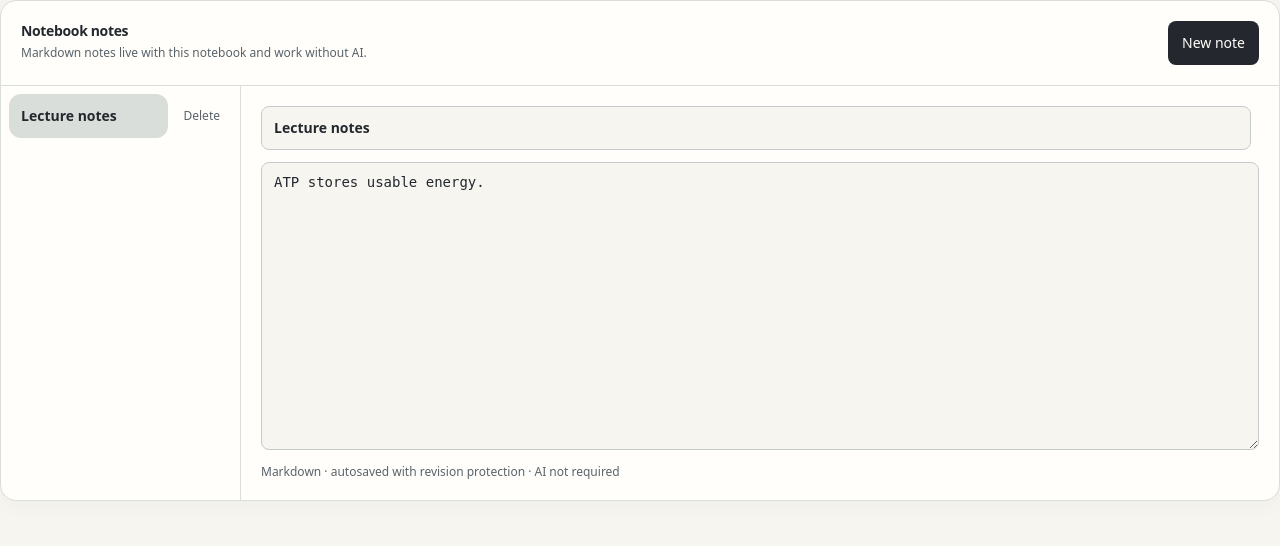
Test case: NotesPanel › keeps local edits when the server reports a newer revision
Replace the text in the text box named "Note body" with "My unsaved local edit.": (760, 306) left=261, top=162, right=1259, bottom=450
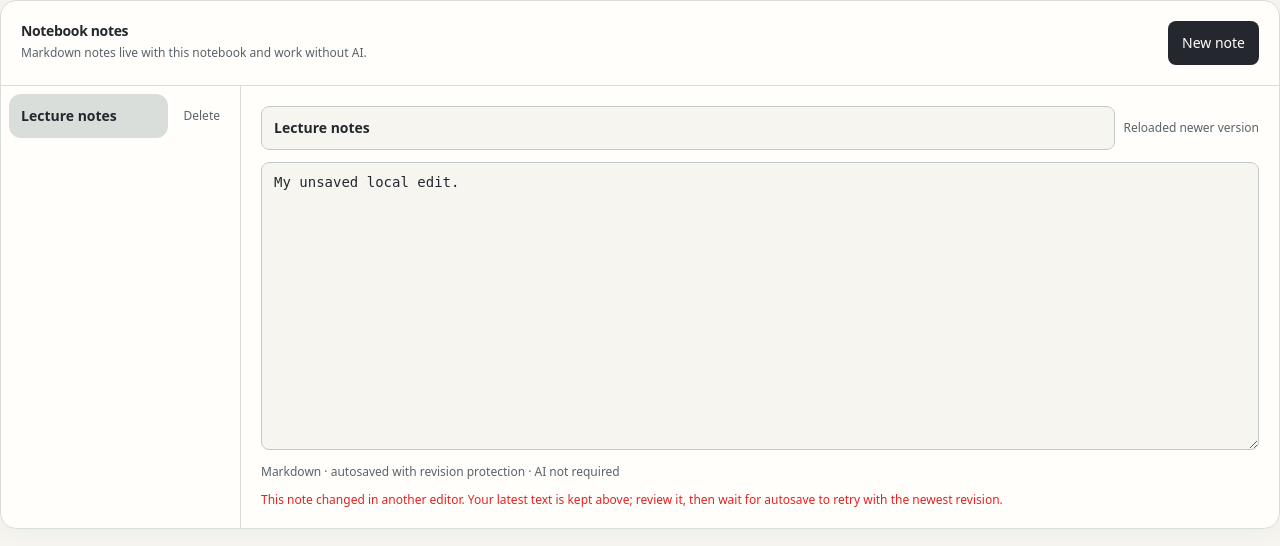
Now the text "Reloaded newer version" is shown, box left=1124, top=120, right=1259, bottom=136
